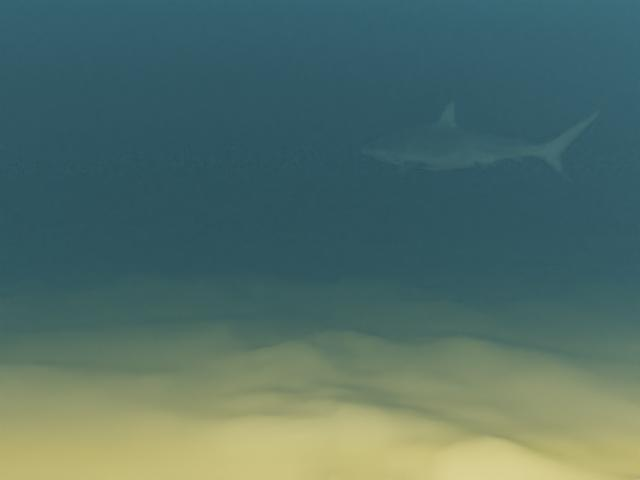Carribean Shark.001: (359, 96, 610, 181)
